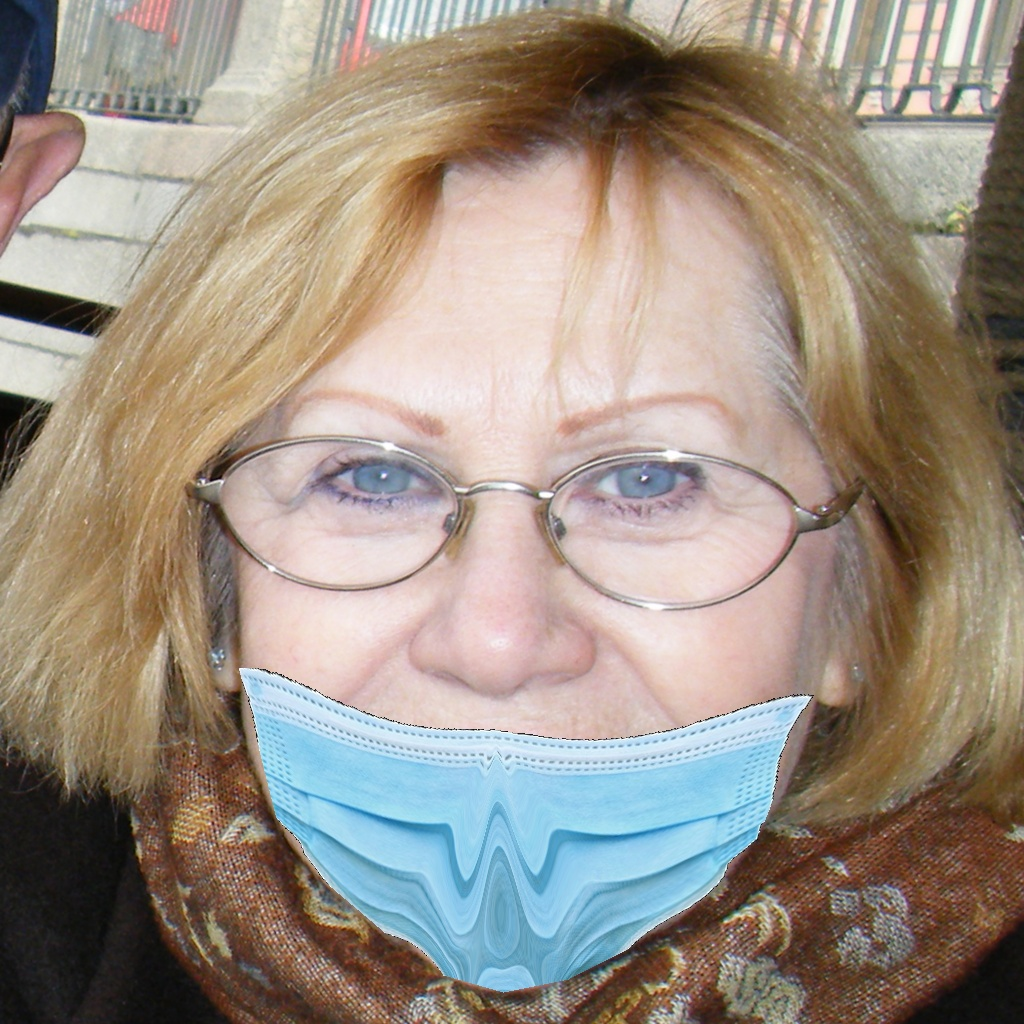mascarilla_mal_puesta: (184, 335, 879, 943)
